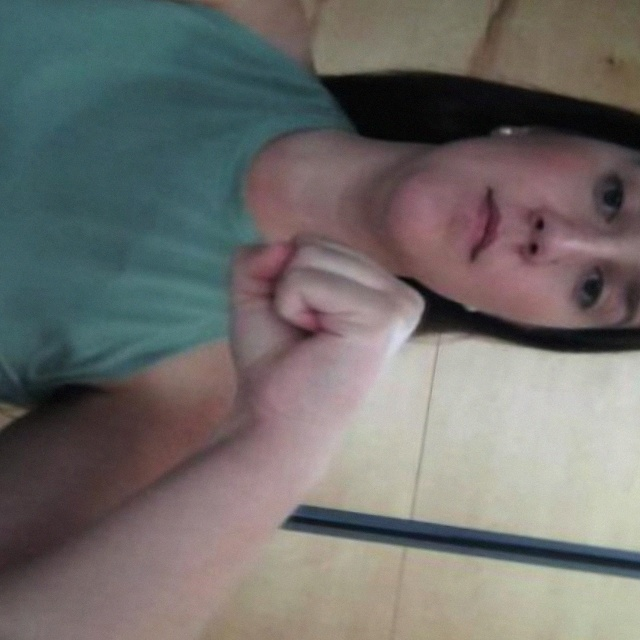Rock: (171, 203, 467, 461)
